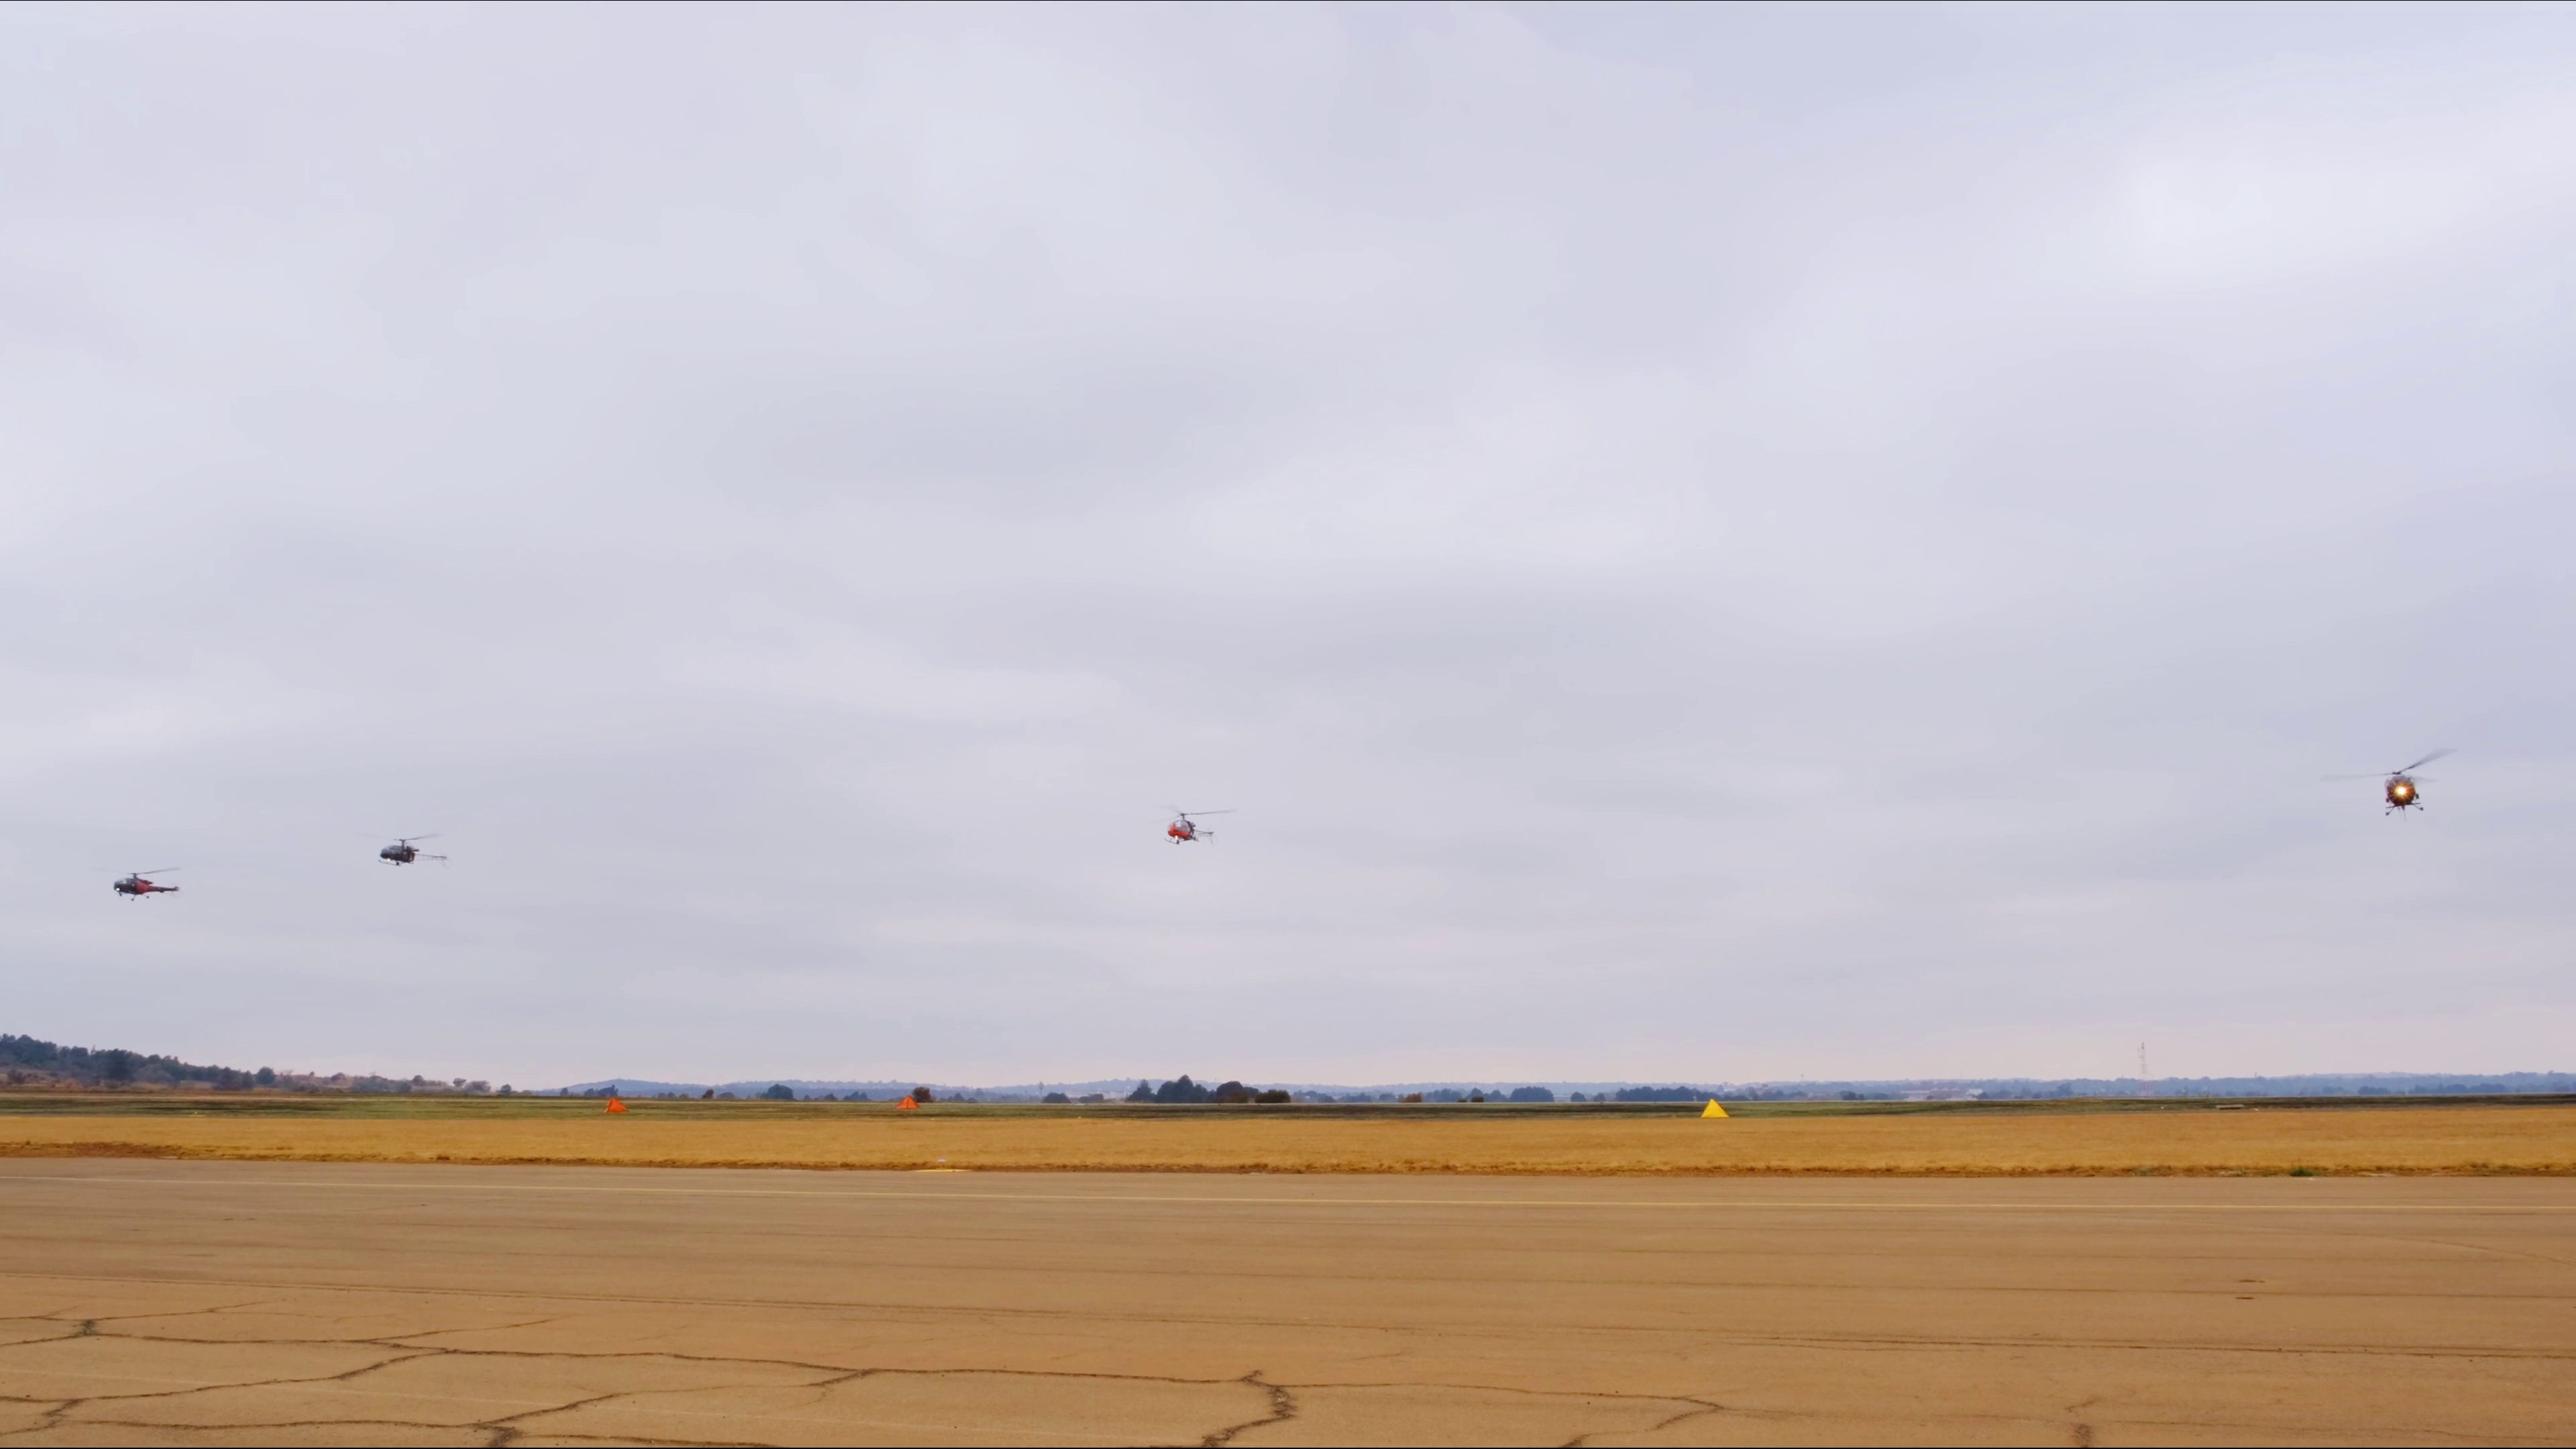heli: (2348, 741, 2450, 816), (1164, 805, 1237, 849), (384, 830, 451, 872), (113, 870, 182, 901)
